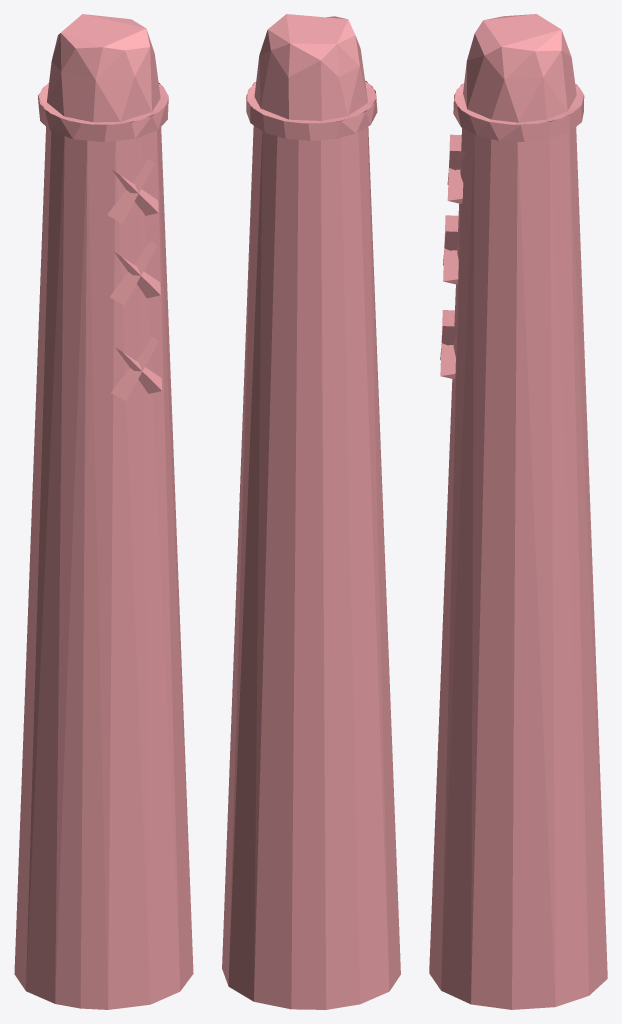
File: pole.glb
The picture shows the model from 3 angles, left to right: view 1: azimuth 30°, elevation 25°; view 2: azimuth 150°, elevation 25°; view 3: azimuth 270°, elevation 25°; orthographic projection.
Visible parts, largest first — view 1: paaltje; view 2: paaltje; view 3: paaltje.
Part boxes in pixels (x1=…): paaltje: x1=14, y1=14, x2=193, y2=1009; paaltje: x1=222, y1=14, x2=400, y2=1009; paaltje: x1=429, y1=14, x2=607, y2=1009.
Size of what is drawn, in the model's own units: 0.4218 by 2.46 by 0.4215.
